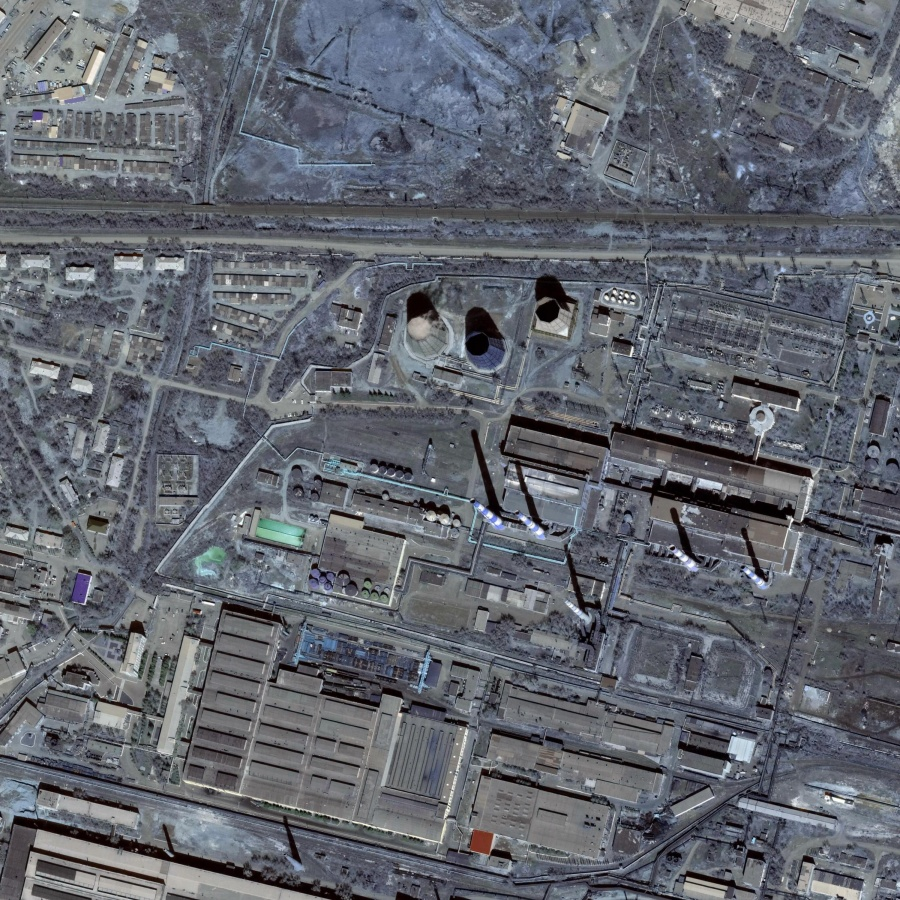PowerPlant: (393, 258, 807, 632)
